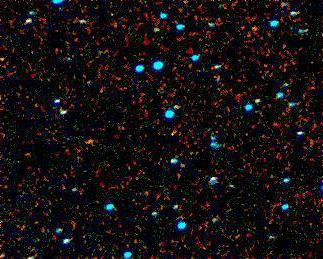star: (241, 10, 271, 40)
